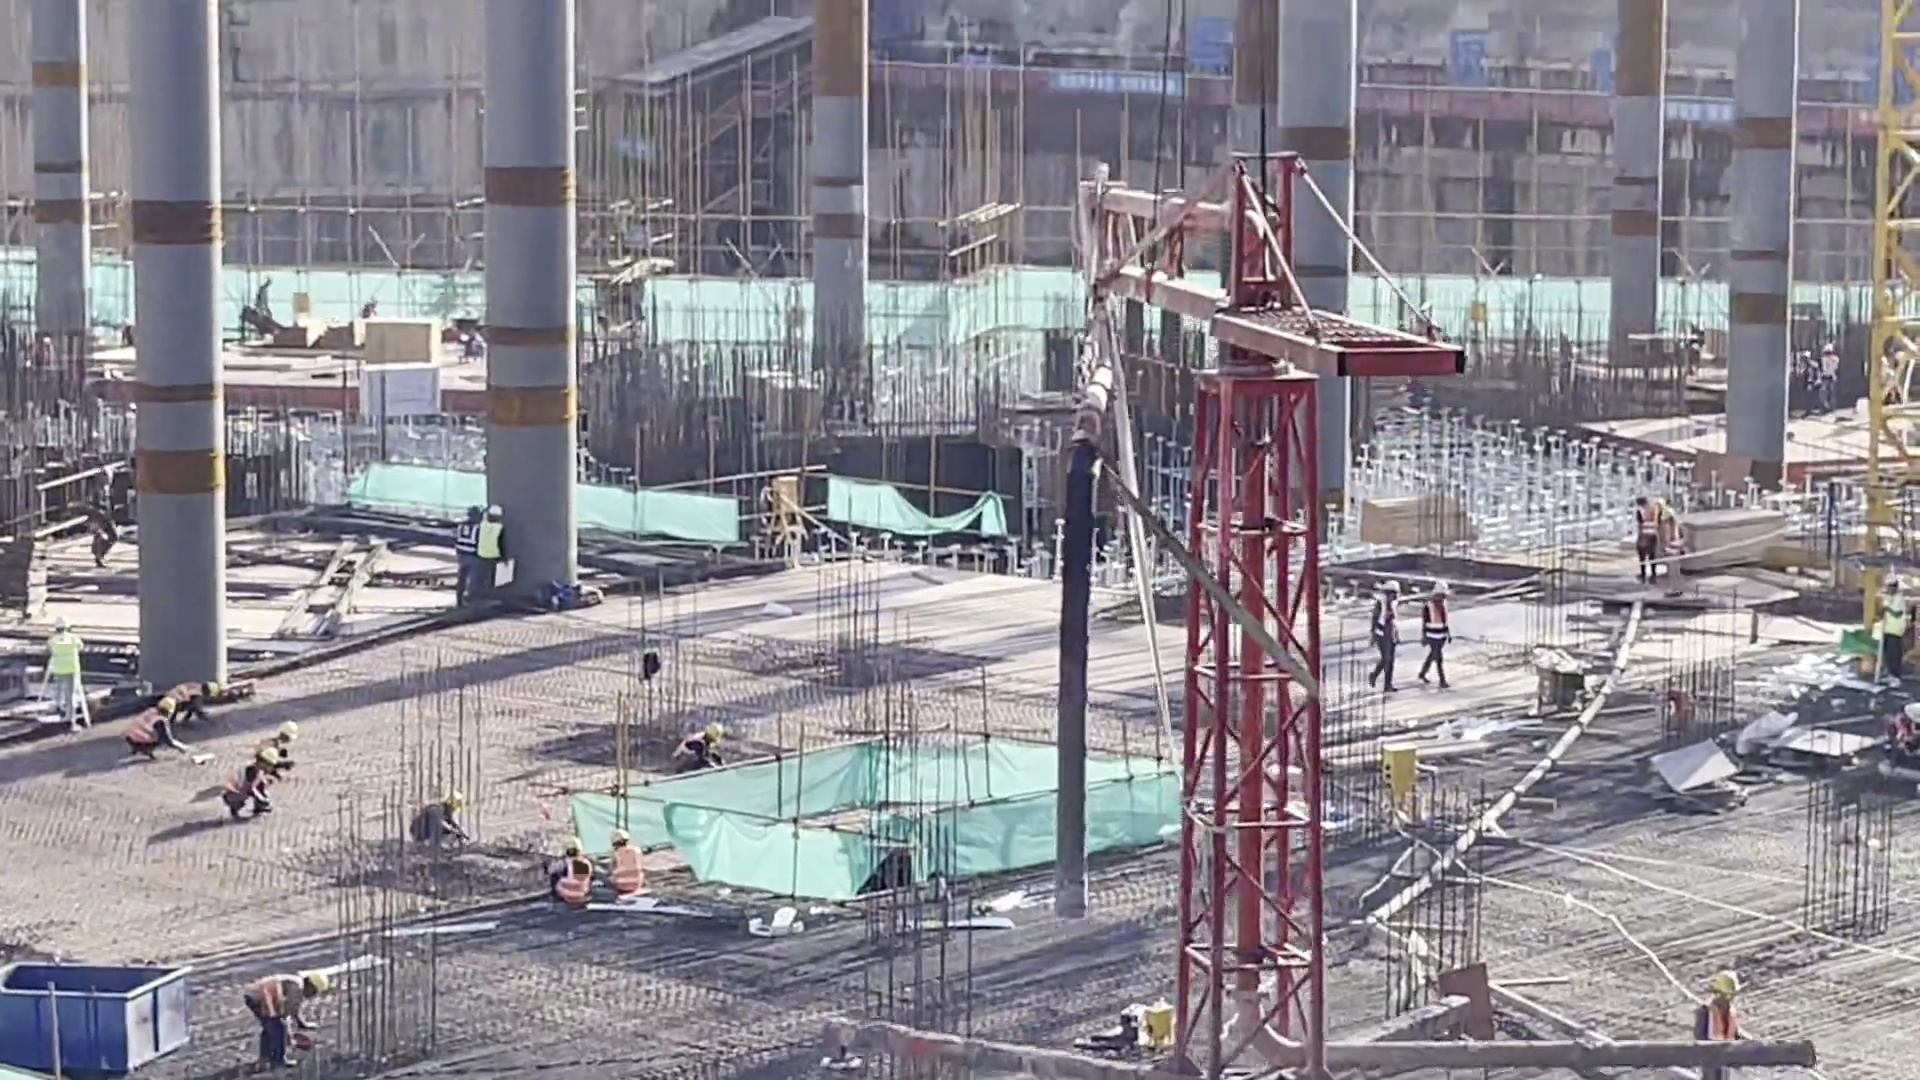helmet: (1717, 971, 1746, 999), (304, 970, 323, 1002), (261, 748, 281, 768), (1902, 702, 1920, 721), (564, 838, 585, 854), (55, 617, 73, 637), (1383, 579, 1403, 596), (1426, 579, 1446, 595), (707, 725, 725, 743), (445, 792, 463, 810), (282, 724, 301, 740), (465, 503, 481, 519), (1661, 507, 1678, 523), (613, 830, 630, 844), (208, 679, 220, 697), (165, 694, 174, 715), (488, 506, 503, 516), (1823, 343, 1831, 350)
person: (233, 963, 327, 1080), (37, 620, 92, 741), (1693, 968, 1746, 1080), (115, 695, 188, 769), (85, 465, 129, 582), (545, 842, 604, 924), (1364, 574, 1403, 696), (593, 828, 645, 920), (404, 796, 475, 863), (673, 716, 741, 780), (222, 749, 284, 820), (1867, 694, 1920, 776), (1876, 574, 1915, 686), (1418, 578, 1454, 687), (471, 501, 508, 608), (152, 679, 228, 731), (1625, 491, 1664, 585), (1654, 506, 1688, 599), (452, 504, 477, 612), (247, 722, 303, 769), (1814, 342, 1840, 424), (1798, 348, 1826, 415), (255, 276, 274, 322), (356, 296, 380, 320)
vest: (243, 970, 306, 1026), (126, 711, 163, 751), (1705, 1003, 1739, 1047), (222, 766, 258, 799), (558, 861, 586, 905), (1886, 600, 1913, 643), (615, 849, 644, 890), (89, 488, 116, 526), (1372, 601, 1397, 638), (51, 640, 81, 671), (1887, 717, 1920, 745), (1424, 602, 1446, 637), (672, 734, 705, 757), (481, 526, 503, 560), (1635, 510, 1658, 540), (168, 682, 200, 701), (1662, 526, 1683, 552), (456, 525, 473, 551), (1822, 357, 1837, 377)
